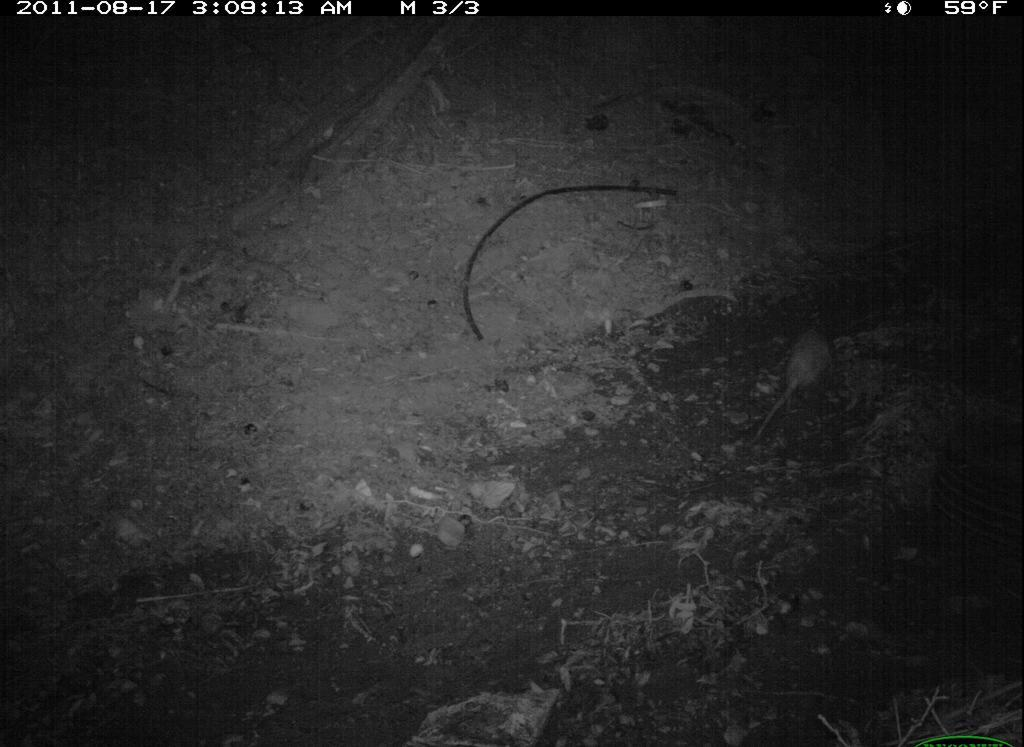opossum: (747, 317, 858, 451)
